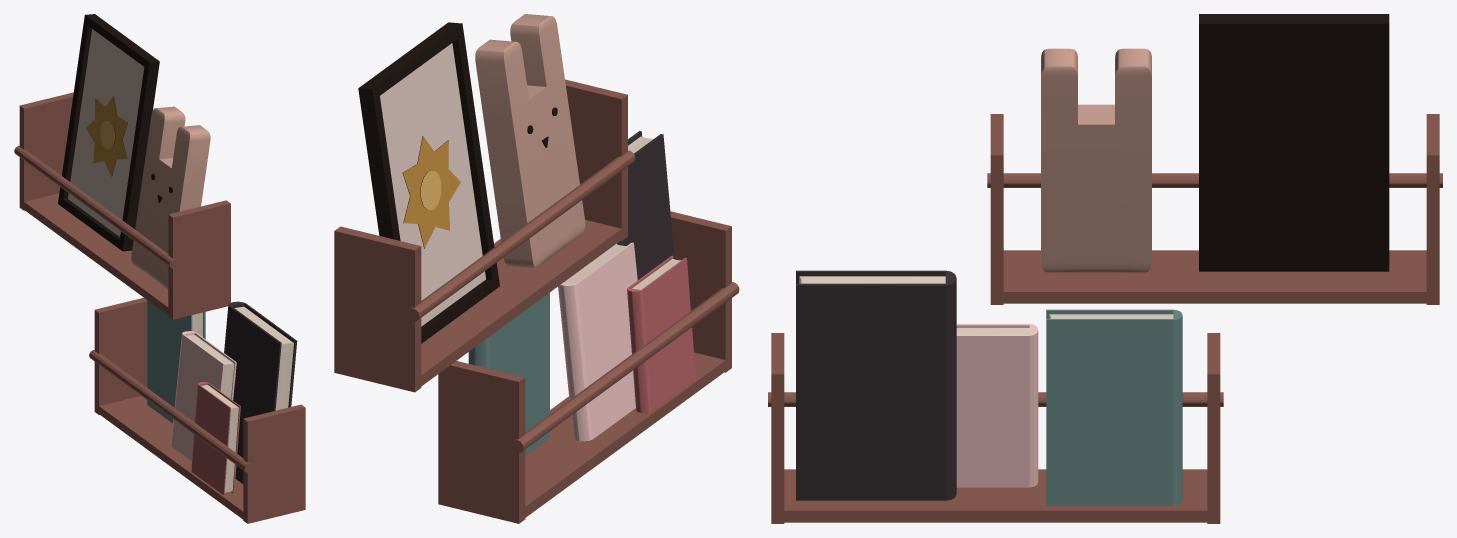
Rendered from Furn5_bookcase_right_color2_joined.fbx.
3 views of the same model, side by side, from view 1: azimuth 30°, elevation 25°; view 2: azimuth 150°, elevation 25°; view 3: azimuth 270°, elevation 25° (orthographic). The views are drawn at different scales.
Parts seen in each view (by area): view 1: Куб.295; view 2: Куб.295; view 3: Куб.295.
Part boxes in pixels (x1,y1,x2,y2): Куб.295: (14,14,305,523); Куб.295: (334,14,739,523); Куб.295: (768,14,1442,523).
Bounding box in the file's own units: 42.04 × 221 × 269.
